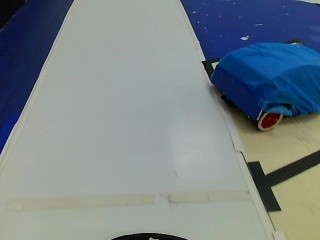car: (212, 38, 318, 131)
